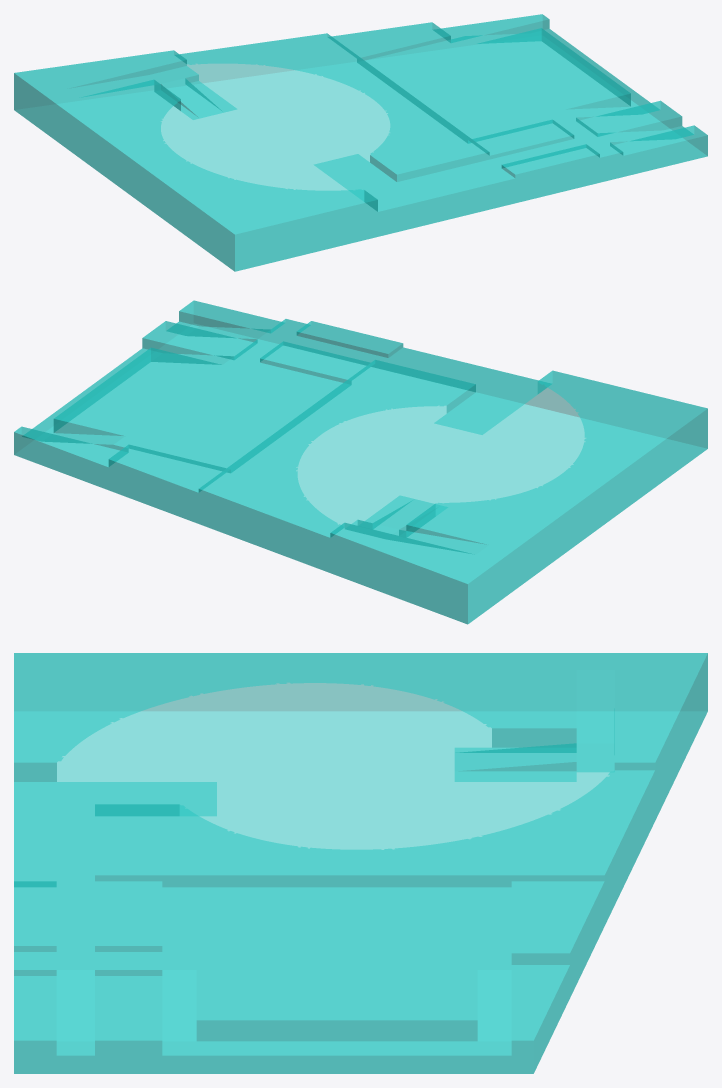
The model's file is OsakaPlatform.fbx.
3 views of the same model, one above another, from view 1: azimuth 30°, elevation 25°; view 2: azimuth 150°, elevation 25°; view 3: azimuth 270°, elevation 25° (orthographic). The views are drawn at different scales.
Parts seen in each view (by area): view 1: Platform; view 2: Platform; view 3: Platform.
Boxes of the visible parts, x1,y1,x2,y2 form: Platform: (14, 14, 707, 271); Platform: (14, 300, 707, 624); Platform: (14, 653, 707, 1073).
Bounding box in the file's own units: 10504 × 789 × 8496.
